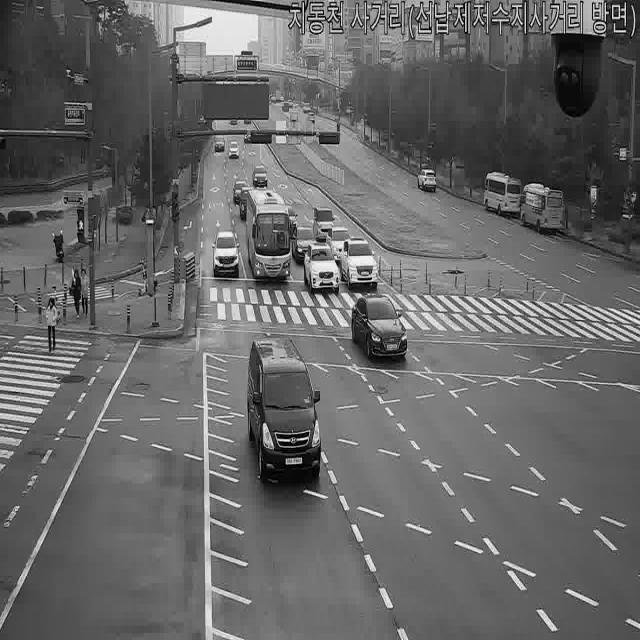Bus: (247, 188, 295, 280), (519, 182, 565, 234), (482, 172, 524, 216)
Car: (248, 342, 326, 492), (352, 295, 410, 364), (338, 238, 379, 289), (304, 243, 341, 295), (212, 230, 240, 278), (292, 226, 320, 266), (325, 225, 353, 263), (311, 205, 337, 243), (275, 205, 299, 238), (237, 188, 258, 220), (416, 168, 436, 190), (232, 180, 250, 204), (252, 165, 268, 188), (244, 130, 260, 144), (228, 140, 239, 159), (213, 136, 224, 152), (306, 111, 316, 123), (289, 110, 298, 123), (282, 101, 292, 112), (302, 102, 310, 114)
